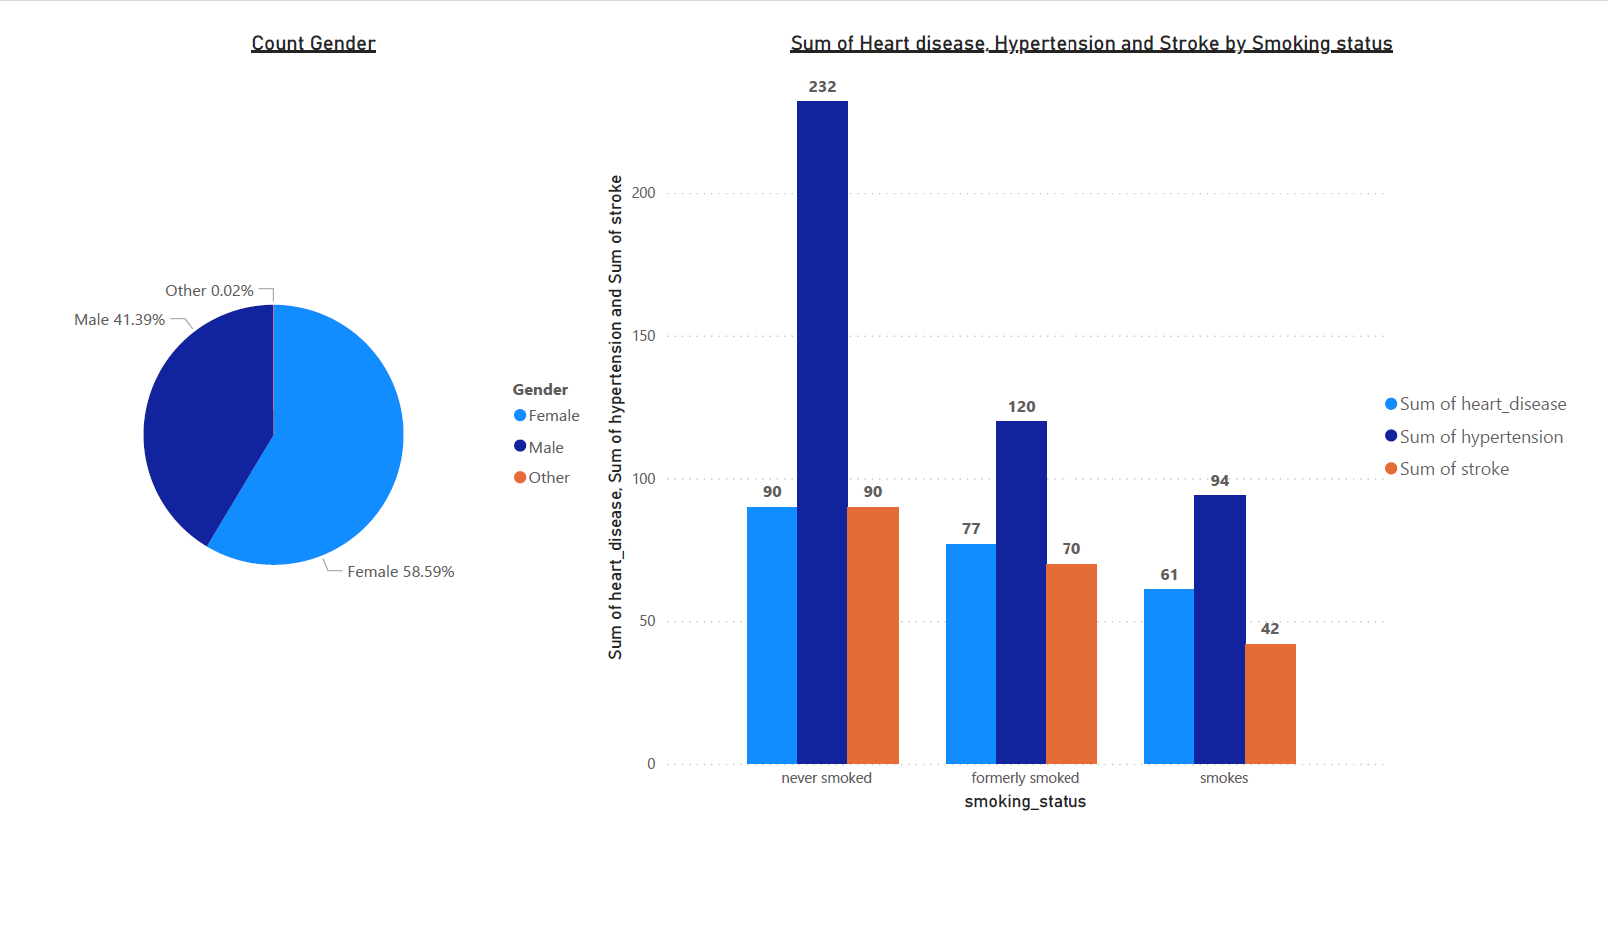

This screenshot's page, from the dashboard's own definition file:
{"tool":"powerbi","page":{"name":"Page 2","canvas":[1280,720],"ordinal":1},"visuals":[{"type":"clusteredColumnChart","title":"Sum of Heart disease, Hypertension and Stroke by Smoking status","fields":{"Category":["healthcare-dataset-stroke-data.smoking_status"],"Y":["Sum(healthcare-dataset-stroke-data.heart_disease)","Sum(healthcare-dataset-stroke-data.hypertension)","Sum(healthcare-dataset-stroke-data.stroke)"]},"box":[468.8,0,810.5,645.5],"z":0},{"type":"pieChart","title":"Count Gender","fields":{"Category":["healthcare-dataset-stroke-data.gender"],"Y":["CountNonNull(healthcare-dataset-stroke-data.gender)"]},"box":[0,0,468.8,645.5],"z":1000}]}

Visuals, with their boxes in screenshot pixels (x1, y1, x2, y2), scaled from the page's 1280x720 canvas onto the 1608x929 screenshot:
"Sum of Heart disease, Hypertension and Stroke by Smoking status" clusteredColumnChart: x1=589 y1=0 x2=1607 y2=833
"Count Gender" pieChart: x1=0 y1=0 x2=589 y2=833
